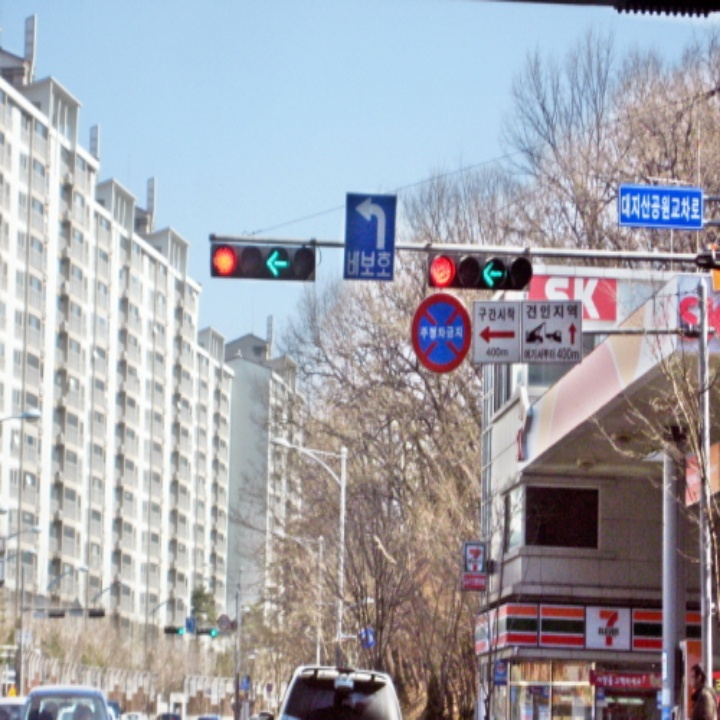left: (353, 194, 389, 252)
